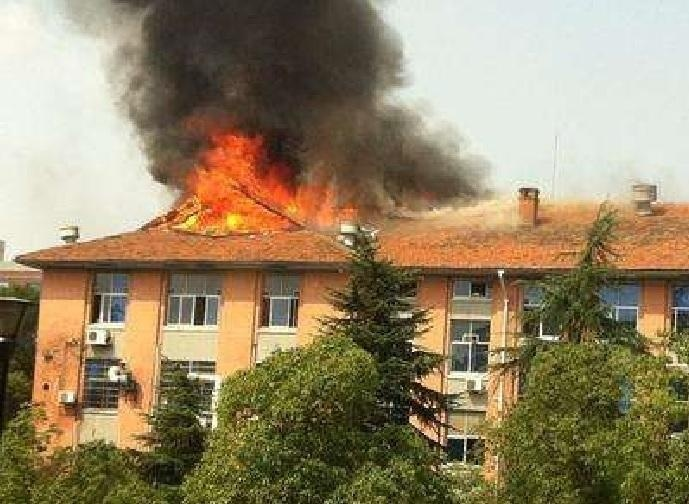fire: (172, 129, 357, 232)
